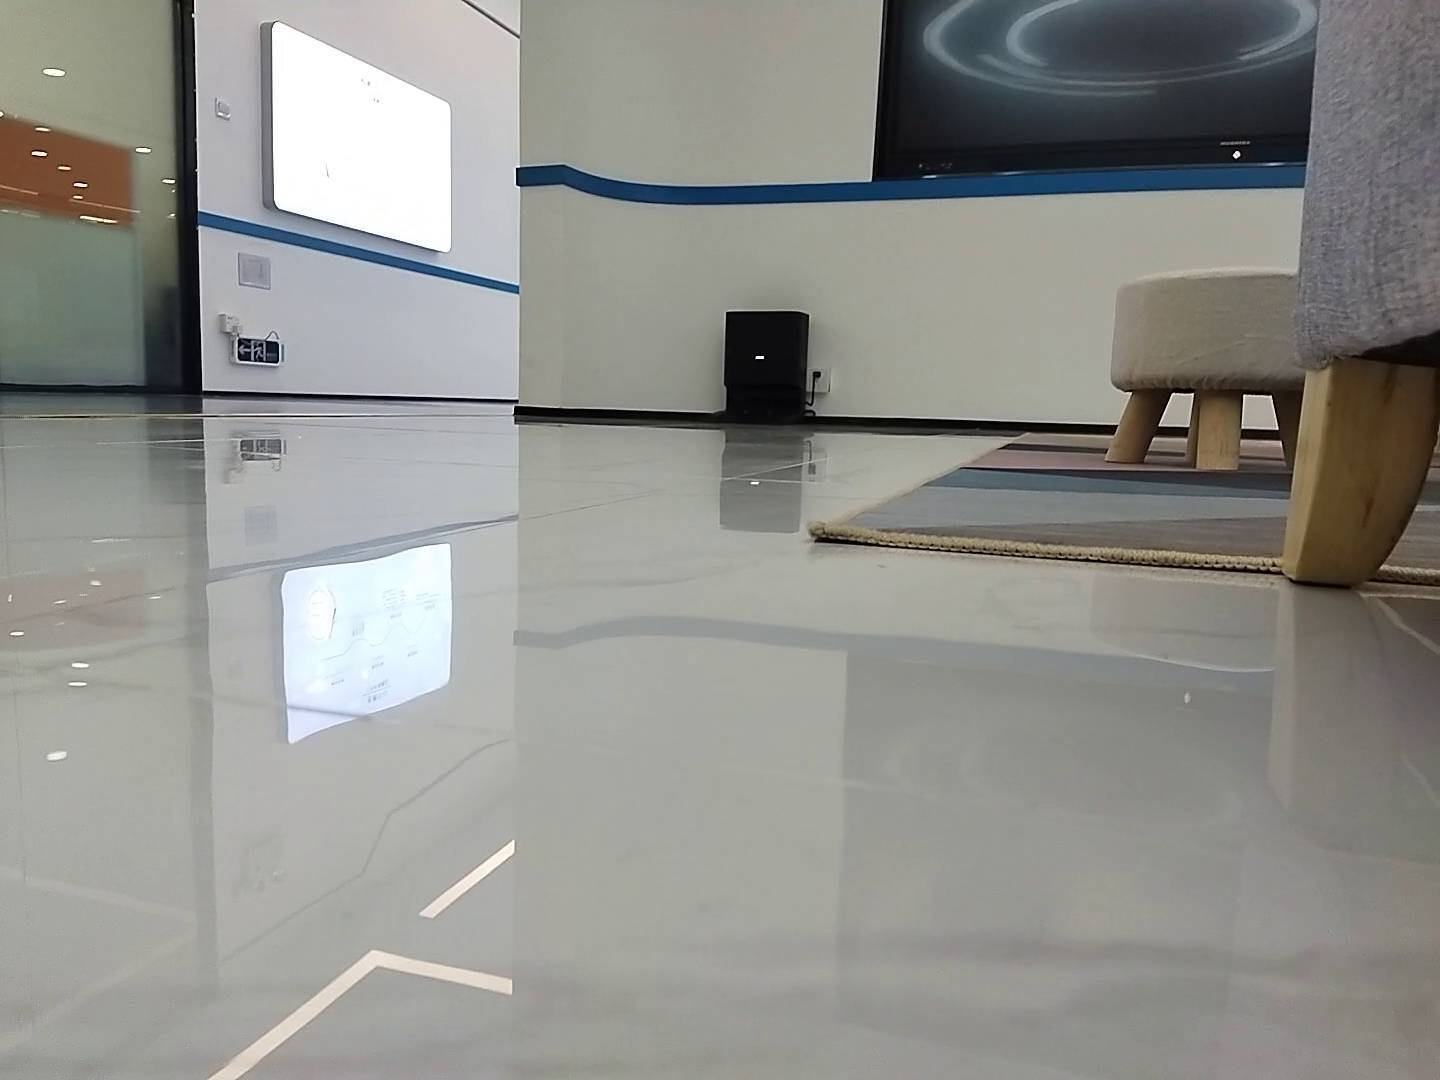dust collecting barrel: (697, 310, 811, 427)
